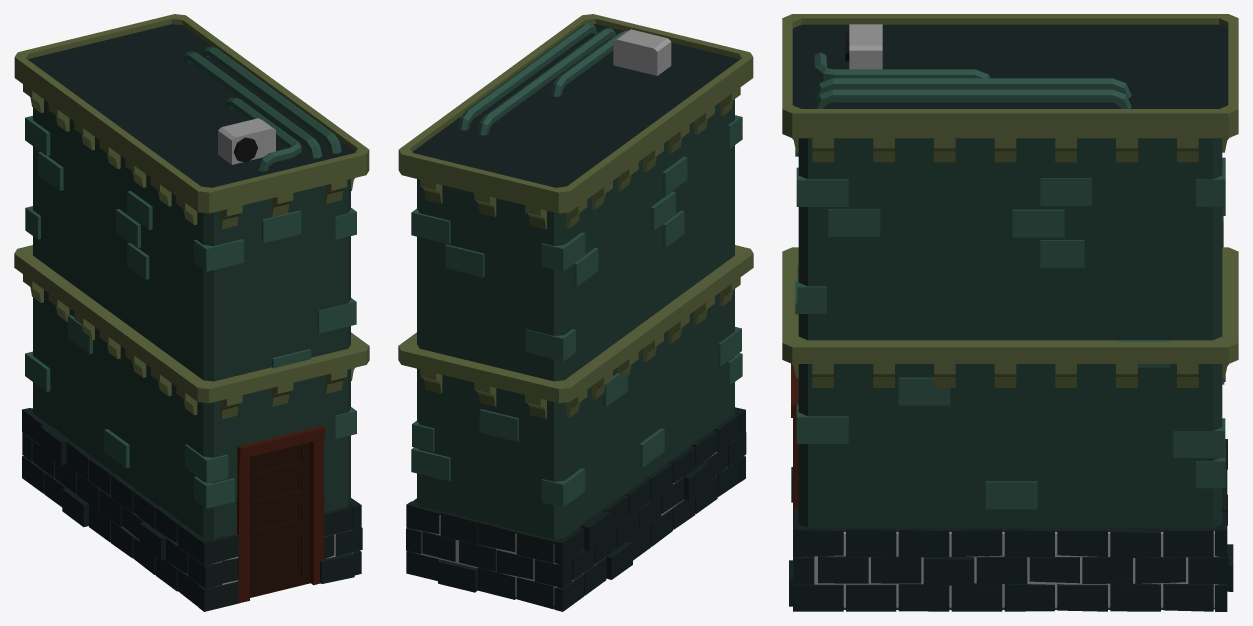
Rendered from bld_2Story_Slim_Mat.glb.
3 views of the same model, side by side, from view 1: azimuth 30°, elevation 25°; view 2: azimuth 150°, elevation 25°; view 3: azimuth 270°, elevation 25° (orthographic). The views are drawn at different scales.
Parts seen in each view (by area): view 1: 2Story_Slim_Mat; view 2: 2Story_Slim_Mat; view 3: 2Story_Slim_Mat.
Boxes of the visible parts, x1=… form: 2Story_Slim_Mat: x1=14, y1=14, x2=369, y2=611; 2Story_Slim_Mat: x1=398, y1=14, x2=753, y2=611; 2Story_Slim_Mat: x1=782, y1=14, x2=1238, y2=611.
Size of the model in its own units: 112 by 276 by 215.
